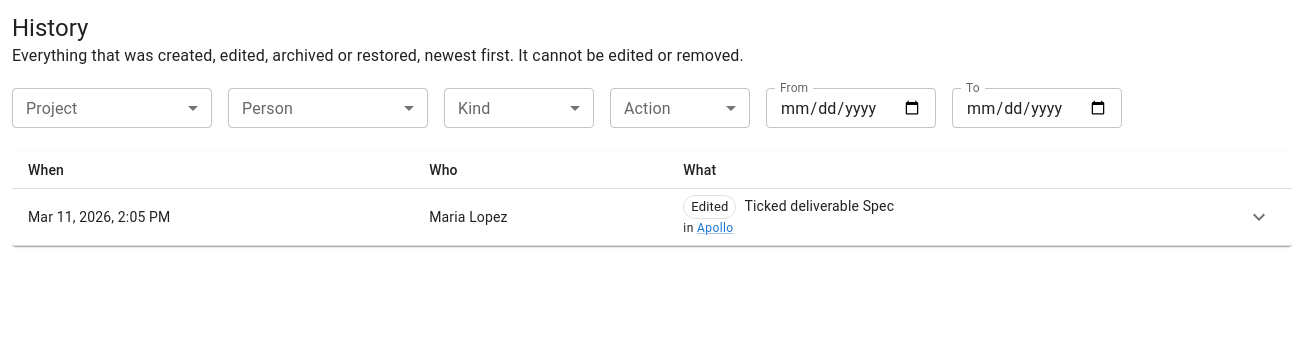
HistoryPage › says yes or no, a dash for nothing, and a new record by its value alone
Click the button named "Show details" at (1259, 217), box [1242, 200, 1276, 234]
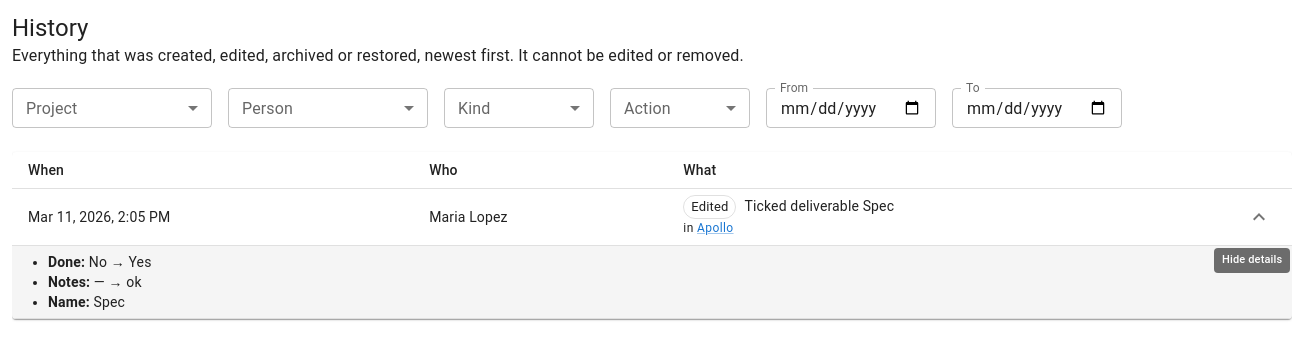
Now the text "No → Yes" is shown, box [89, 254, 152, 270]
Now the text "— → ok" is shown, box [94, 274, 142, 290]
Now the text "Spec" is shown, box [93, 294, 125, 310]
